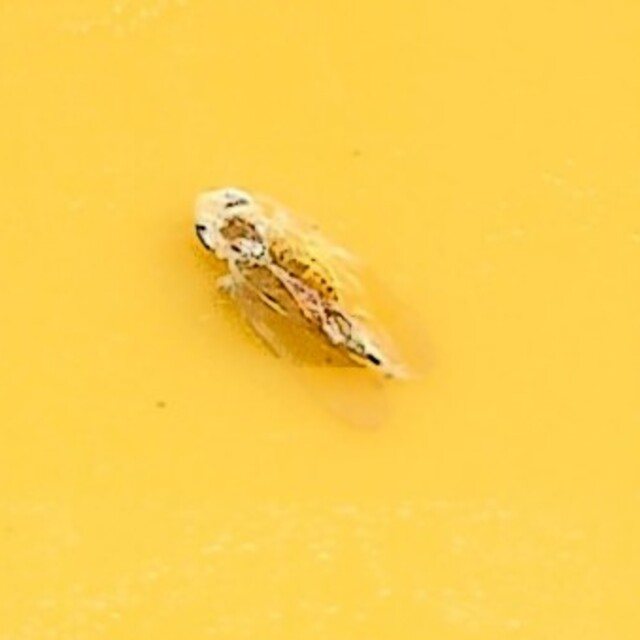Hemiptera: (189, 193, 451, 447)
